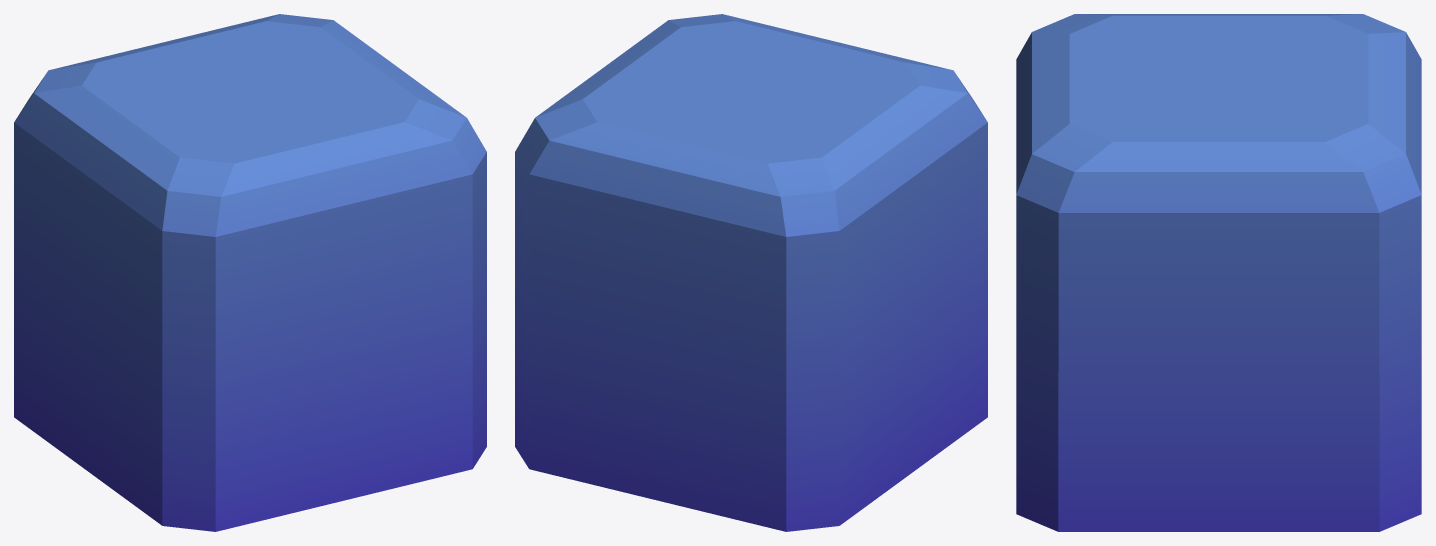
The model's file is StoolBlue.fbx.
The picture shows the model from 3 angles, left to right: view 1: azimuth 30°, elevation 25°; view 2: azimuth 150°, elevation 25°; view 3: azimuth 270°, elevation 25°; orthographic projection. The views are drawn at different scales.
Visible parts, largest first — view 1: BlueStool; view 2: BlueStool; view 3: BlueStool.
Part boxes in pixels (left/top/right/bottom): BlueStool: left=14, top=14, right=486, bottom=531; BlueStool: left=515, top=14, right=987, bottom=531; BlueStool: left=1016, top=14, right=1421, bottom=531.
Bounding box in the file's own units: 75 × 75 × 75.
